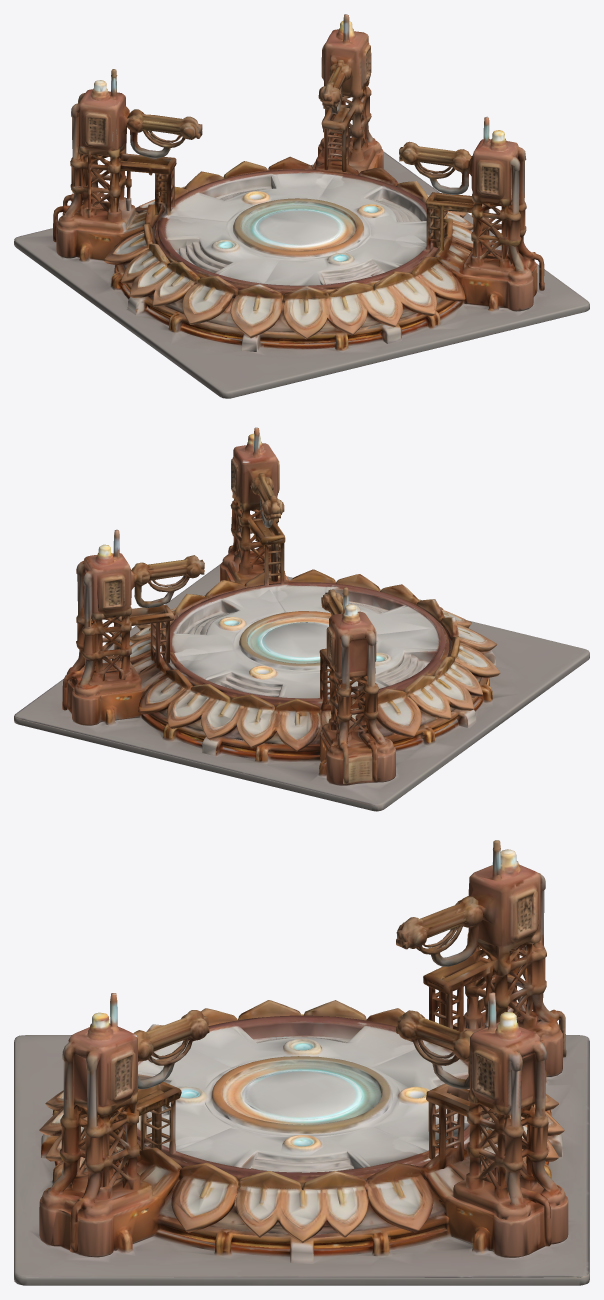
Rendered from launch_pad.glb.
3 renders of one model, top to bottom at view 1: azimuth 30°, elevation 25°; view 2: azimuth 150°, elevation 25°; view 3: azimuth 270°, elevation 25°, orthographic. The views are drawn at different scales.
Parts seen in each view (by area): view 1: node_0; view 2: node_0; view 3: node_0.
Part boxes in pixels (bbox=[...]): node_0: bbox=[14, 14, 589, 398]; node_0: bbox=[14, 427, 589, 811]; node_0: bbox=[14, 840, 589, 1285].
Bounding box in the file's own units: 0.8132 × 0.3853 × 0.814.
1 material, 1 textured.
